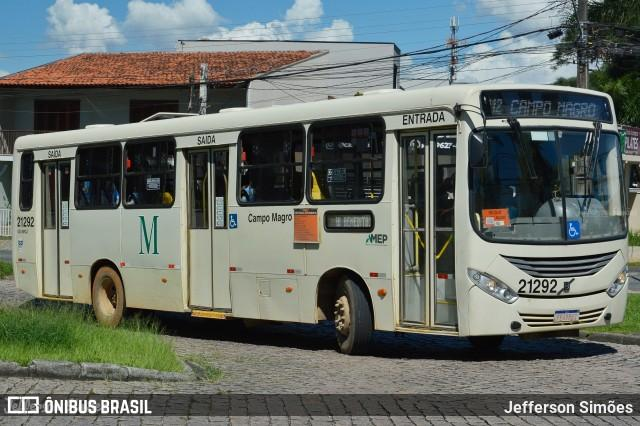CAMPO MAGRO: (506, 96, 602, 123)
